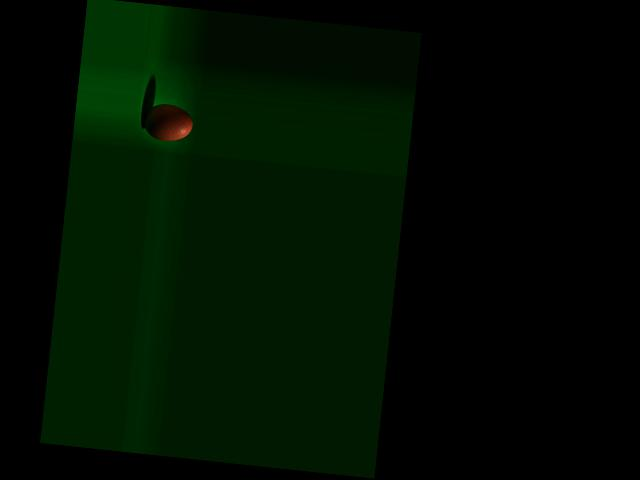egg: (142, 101, 194, 143)
